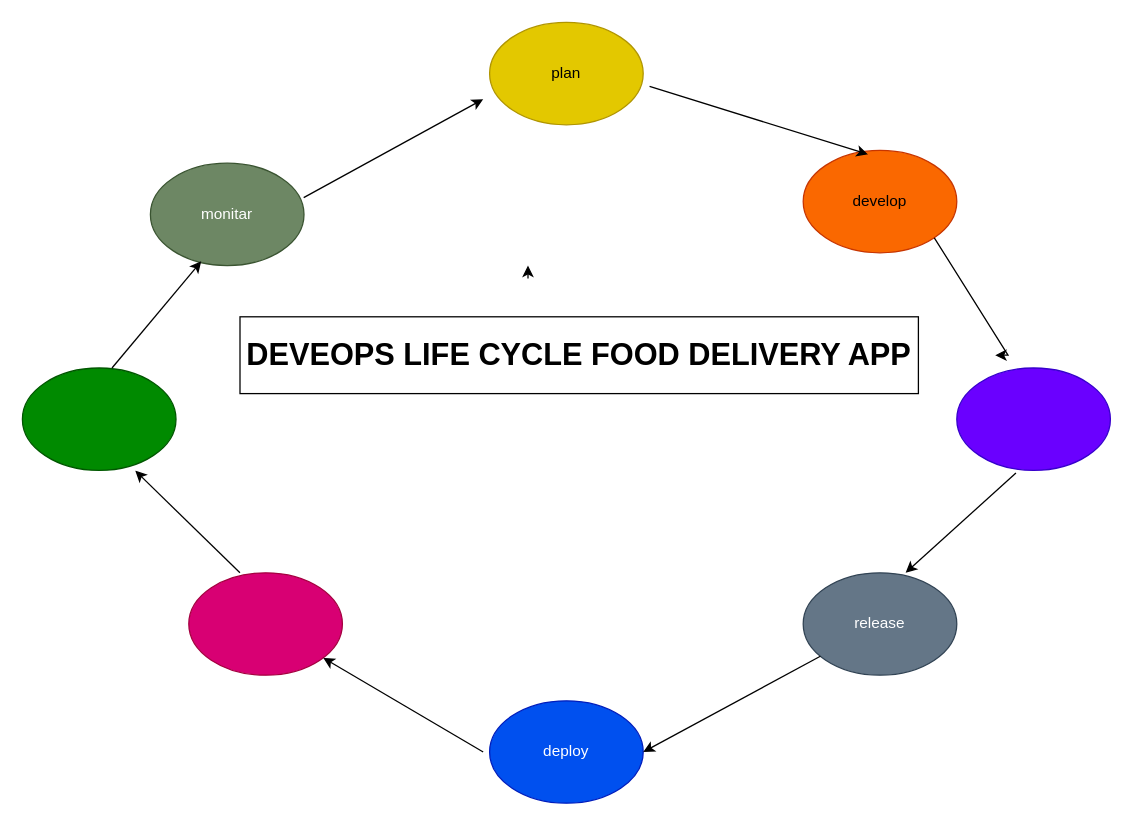
The diagram is 1133 pixels wide and 826 high, and some of its shapes have lost their labels. The centre of each missing label's shape, as x and y in pixels:
build: pixel 265 623
operate: pixel 98 418
text: pixel 1033 418
